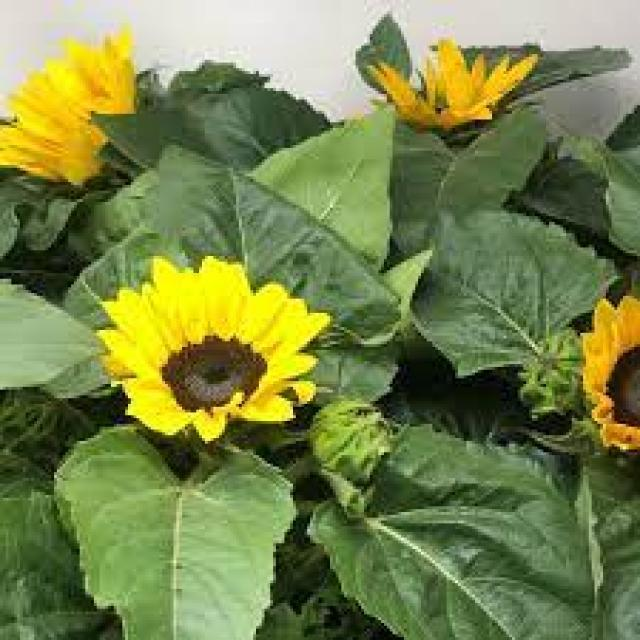sunflower: (94, 257, 330, 444), (0, 23, 137, 185), (368, 39, 538, 131), (583, 292, 640, 452)
